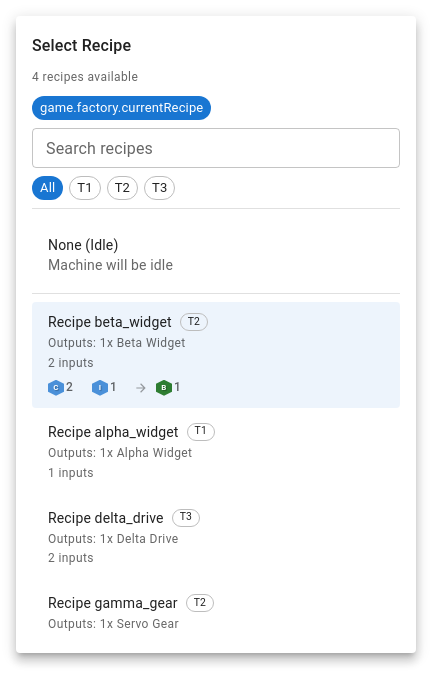
Test case: RecipeDropdown › filters recipes by selected age chip
Click the button "T2": (122, 188) [107,176,138,200]
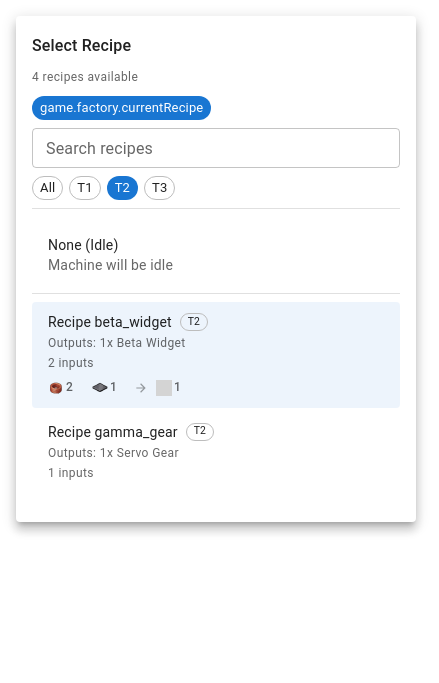
Expected: the button with test id "recipe-option-beta_widget" is shown, [32,302,400,408]
Expected: the button with test id "recipe-option-alpha_widget" is gone
Expected: the button with test id "recipe-option-delta_drive" is gone
